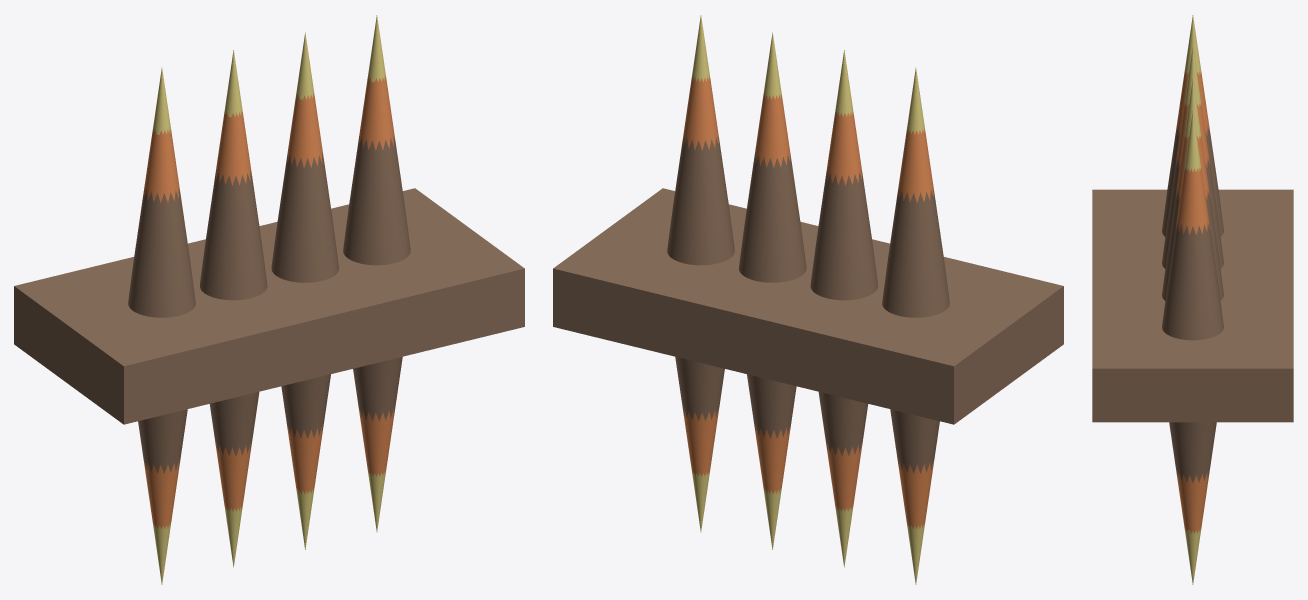
3 views of the same model, side by side, from view 1: azimuth 30°, elevation 25°; view 2: azimuth 150°, elevation 25°; view 3: azimuth 270°, elevation 25° (orthographic). The views are drawn at different scales.
Visible parts, largest first — view 1: Cube; view 2: Cube; view 3: Cube.
Part boxes in pixels (x1=…): Cube: x1=14, y1=15, x2=524, y2=584; Cube: x1=553, y1=15, x2=1063, y2=584; Cube: x1=1092, y1=15, x2=1293, y2=584.
Size of the model in its own units: 325 by 402 by 154.
